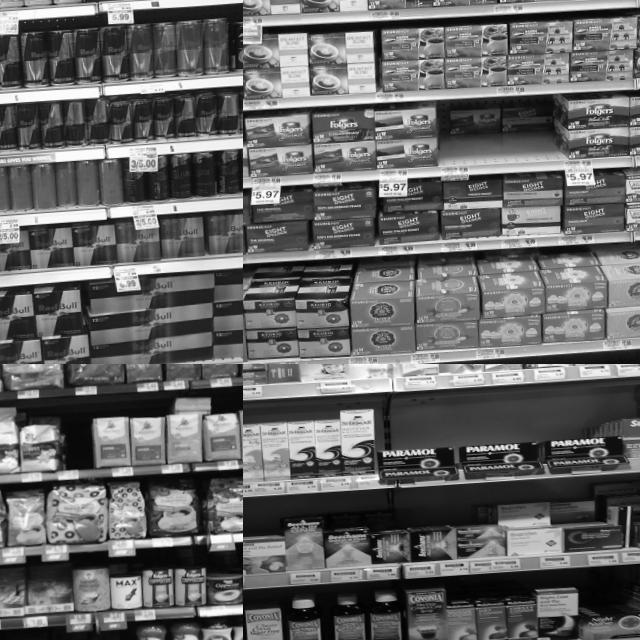empty_space: (65, 407, 93, 478)
